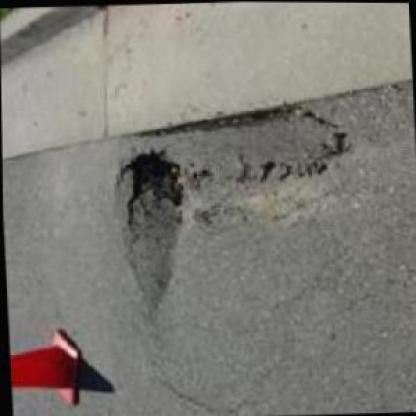pothole: (113, 96, 353, 190), (116, 144, 190, 308)
